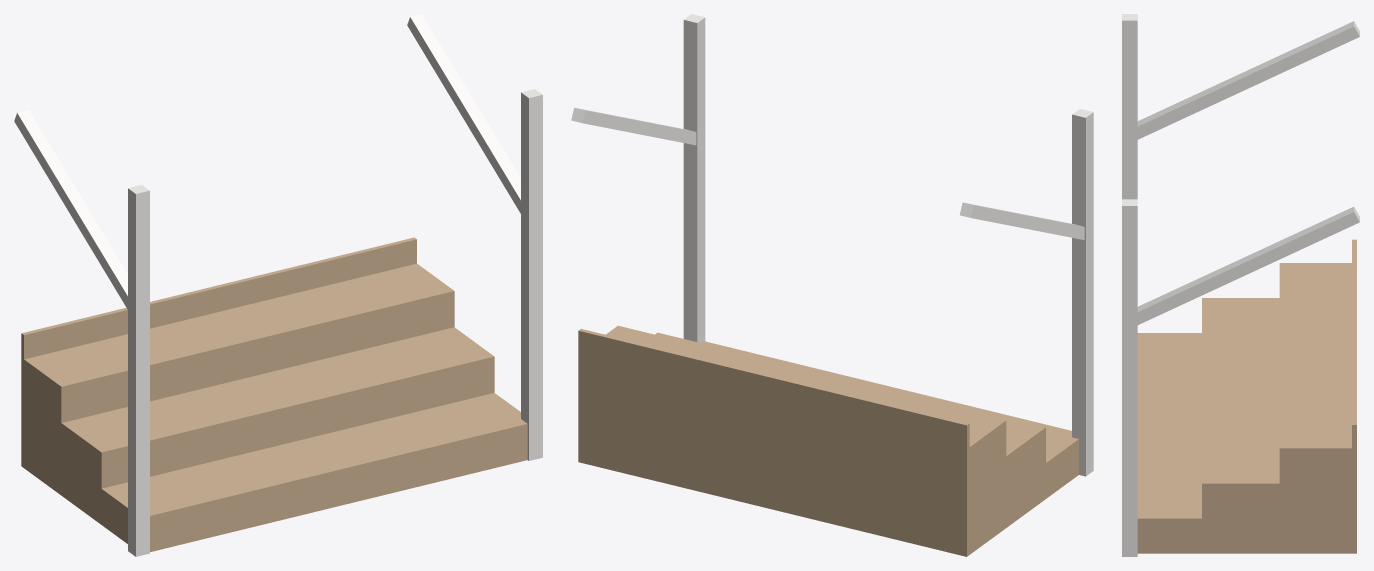
File: entry_steps.glb
3 renders of one model, left to right at view 1: azimuth 30°, elevation 25°; view 2: azimuth 150°, elevation 25°; view 3: azimuth 270°, elevation 25°, orthographic. The views are drawn at different scales.
Parts seen in each view (by area): view 1: entry_steps_wood, entry_steps_trim; view 2: entry_steps_wood, entry_steps_trim; view 3: entry_steps_wood, entry_steps_trim.
Part boxes in pixels (x1,y1,x2,y2): entry_steps_wood: (21, 237, 527, 551); entry_steps_trim: (14, 14, 542, 556); entry_steps_wood: (578, 325, 1078, 556); entry_steps_trim: (571, 14, 1093, 476); entry_steps_wood: (1137, 239, 1356, 553); entry_steps_trim: (1122, 14, 1359, 556).
Size of the model in its own units: 1.76 by 1.5 by 0.9214.
